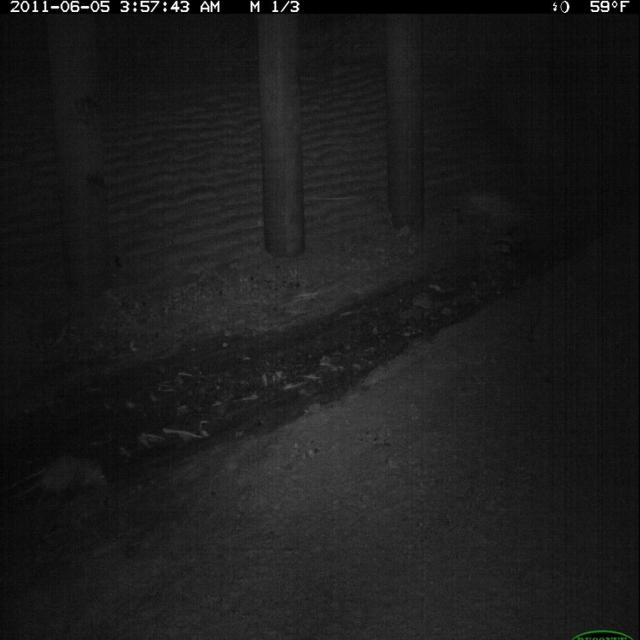opossum: (22, 449, 110, 515)
